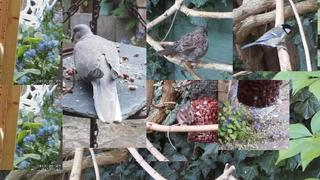collared dove: (71, 24, 122, 124)
dunnock: (152, 24, 209, 68)
great tit: (240, 24, 294, 51)
mouse: (167, 104, 194, 151)
